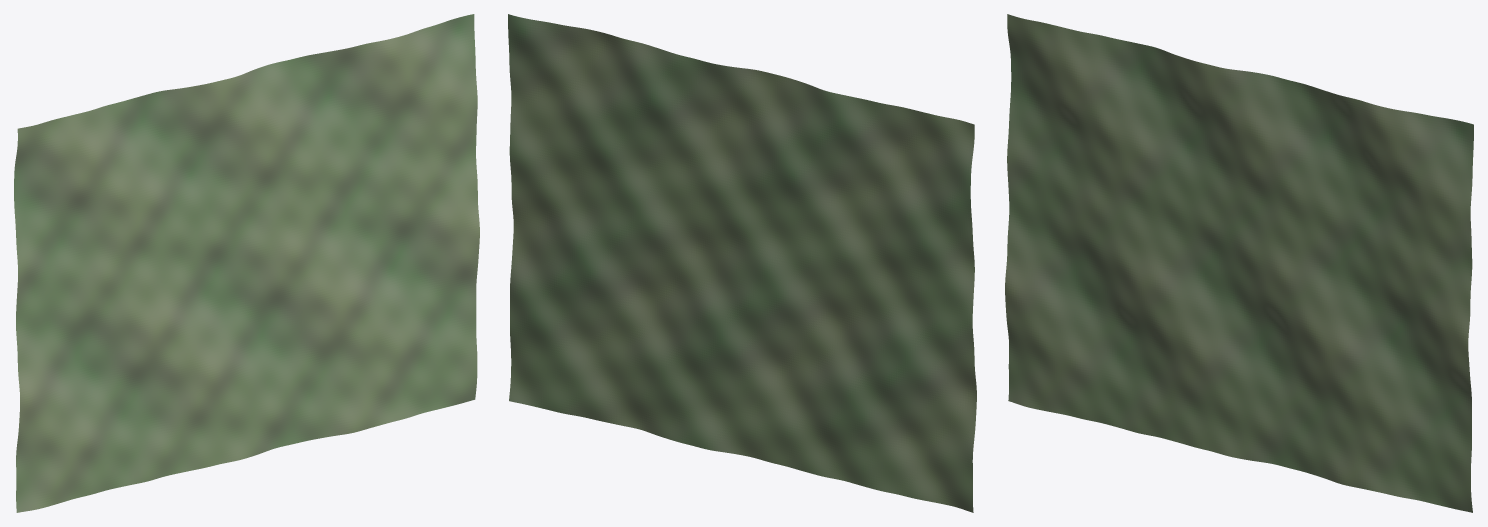
Rendered from hills.glb.
3 views of the same model, side by side, from view 1: azimuth 30°, elevation 25°; view 2: azimuth 150°, elevation 25°; view 3: azimuth 330°, elevation 25° (orthographic).
Parts seen in each view (by area): view 1: part0; view 2: part0; view 3: part0.
Part boxes in pixels (bbox=[...]): part0: bbox=[14, 14, 479, 512]; part0: bbox=[508, 14, 976, 512]; part0: bbox=[1005, 14, 1473, 512].
Size of the model in its own units: 400 by 320 by 10.25.
